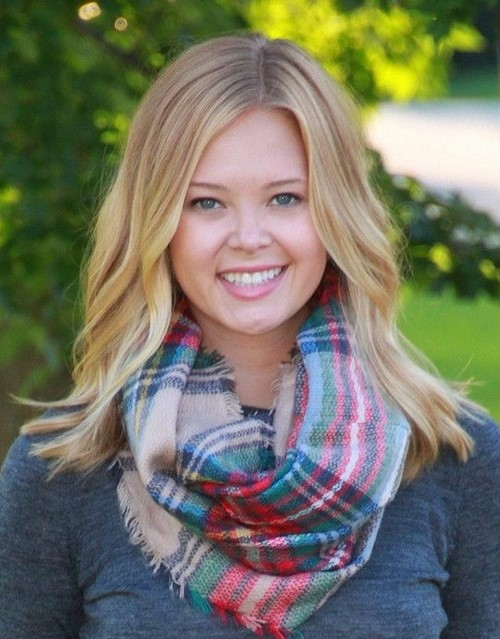face_no_mask: (147, 53, 334, 334)
